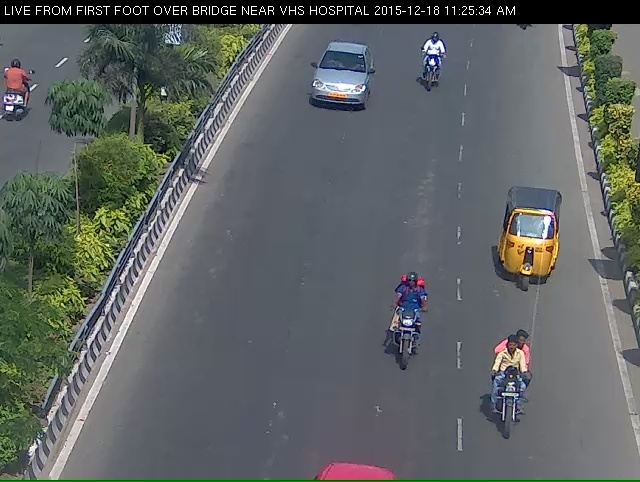Auto: (489, 192, 580, 306)
Car: (303, 40, 375, 130)
Person: (488, 349, 543, 471), (379, 291, 424, 400), (420, 36, 448, 110)
